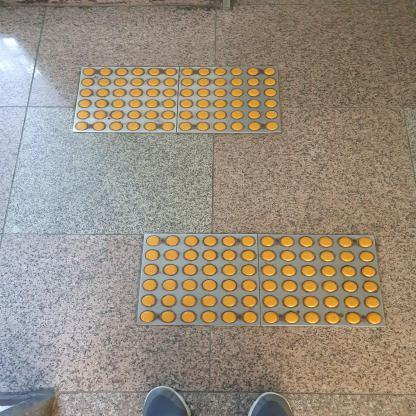podotacti: (133, 228, 389, 333), (65, 60, 290, 140)
